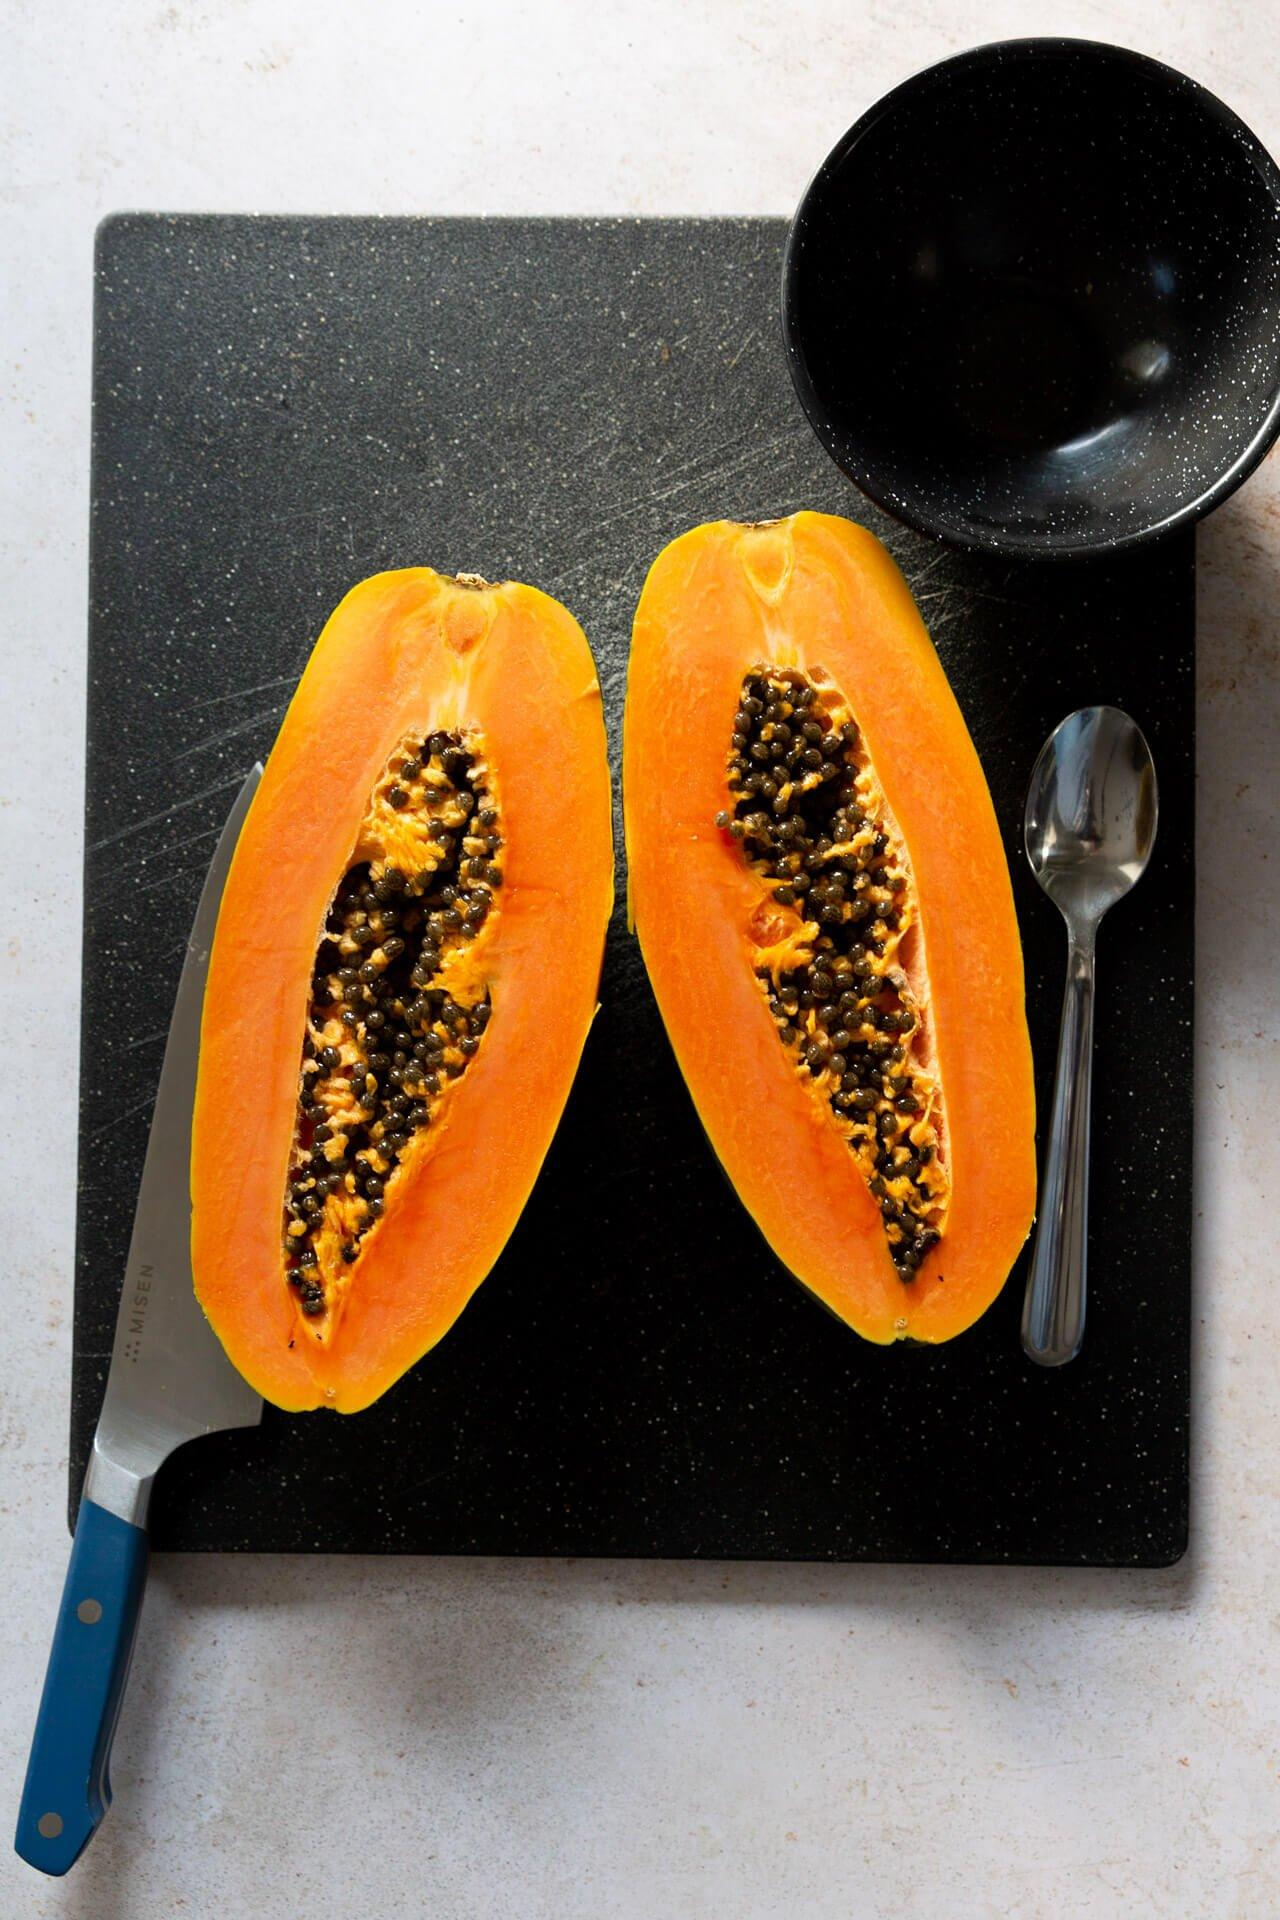papaya: (173, 554, 634, 1431), (627, 474, 1064, 1370)
